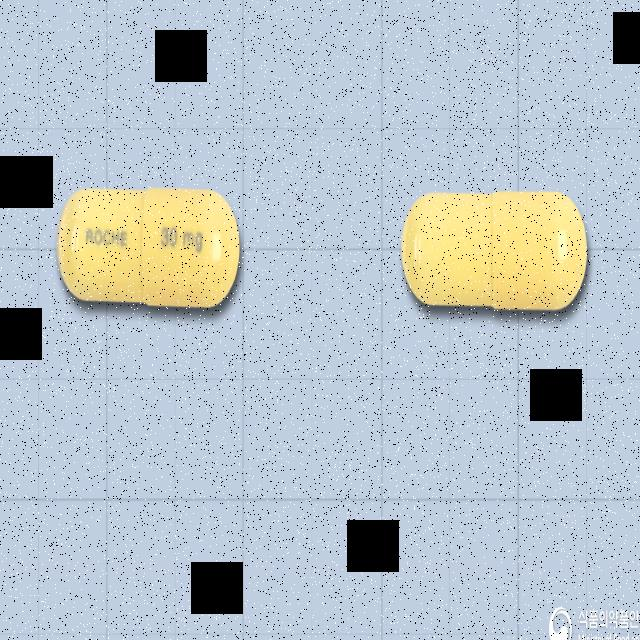Tamiflu Cap: (57, 187, 240, 310)
